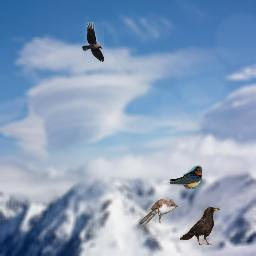Crow: (180, 207, 220, 245), (82, 22, 104, 62)
Cuckoo: (138, 199, 178, 227)
Swallow: (163, 165, 203, 189)
